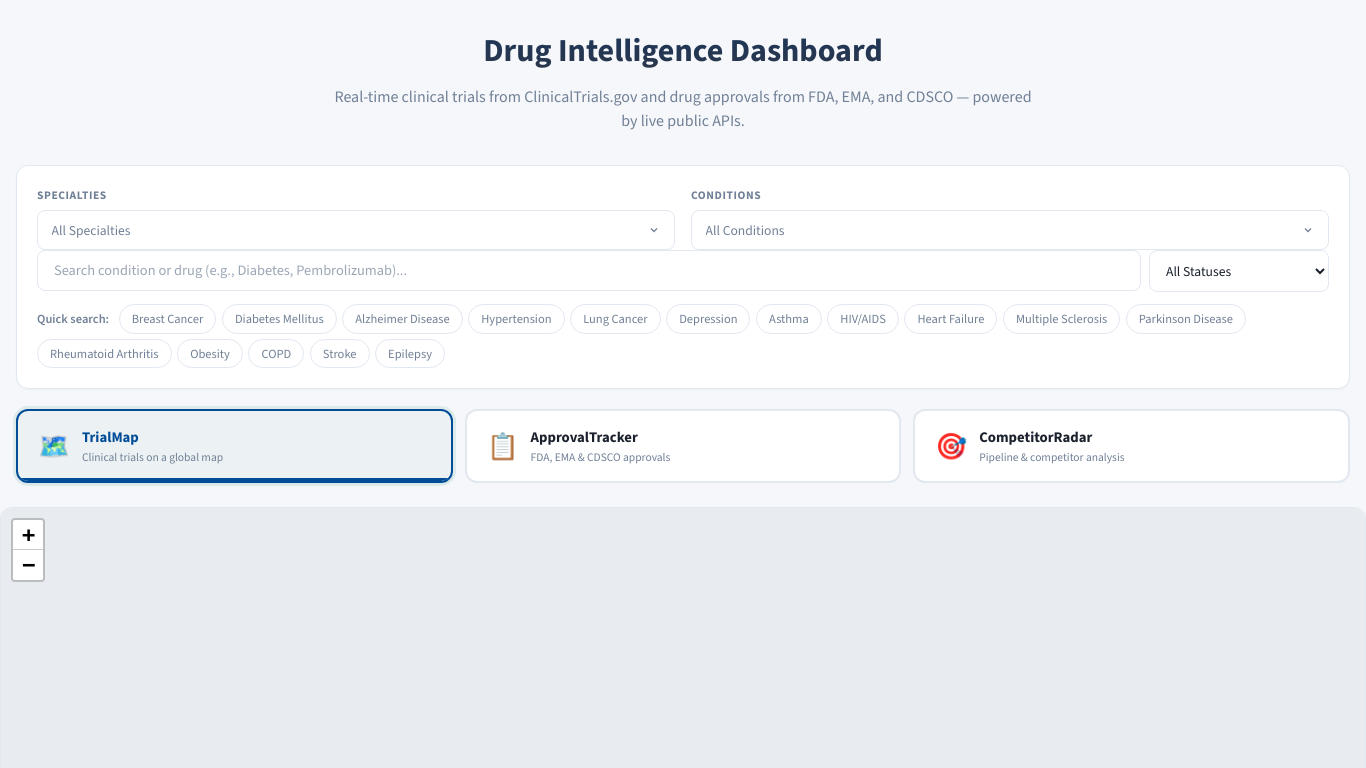
Test: DrugIntelPage › switches to CompetitorRadar tab
Step 1. Click the text "CompetitorRadar" → (1036, 437), box top-left (979, 427), bottom-right (1092, 447)
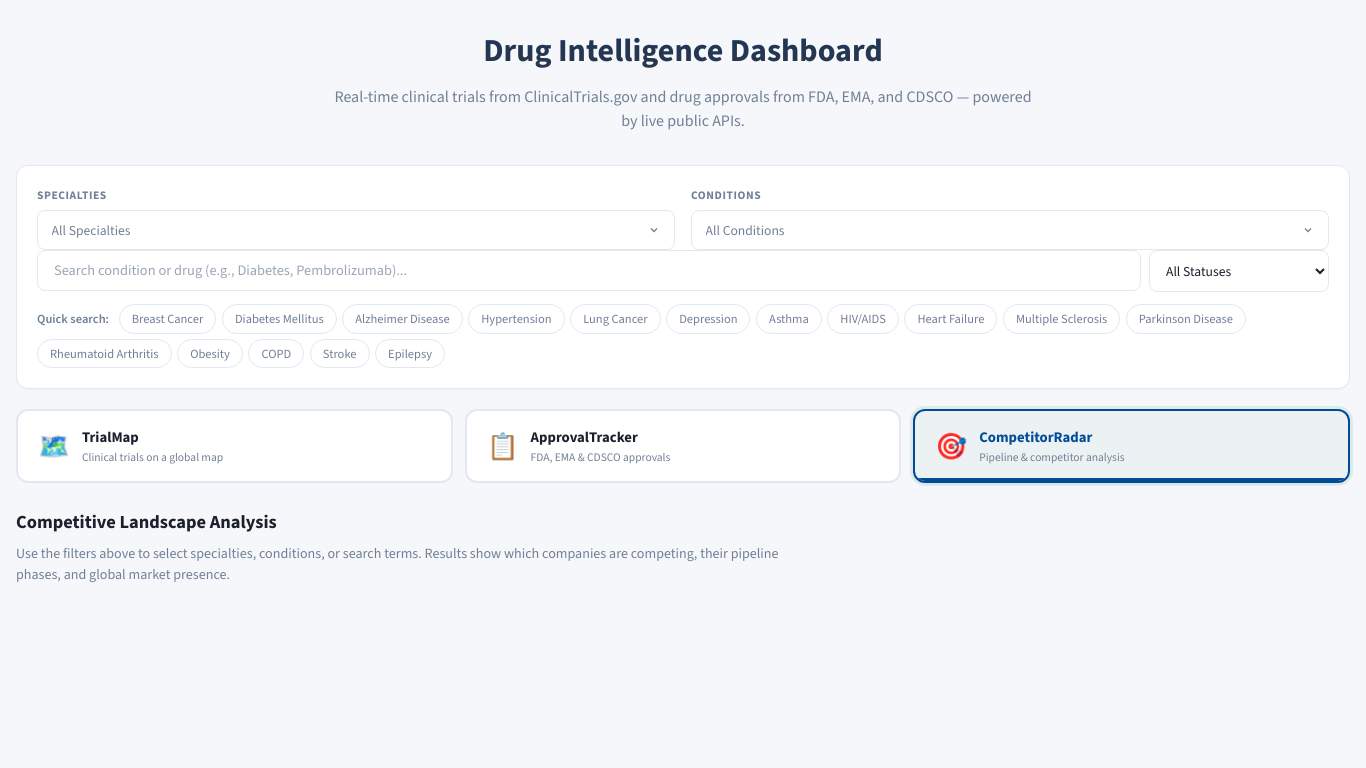
Expected: the heading "Competitive Landscape Analysis" is shown, top-left (16, 510), bottom-right (277, 534)
